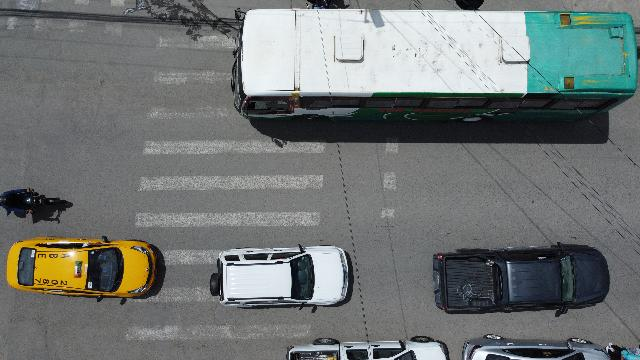Vehiculo: (431, 243, 613, 318), (6, 236, 158, 300), (210, 244, 348, 308), (286, 336, 449, 360), (461, 334, 611, 360)
